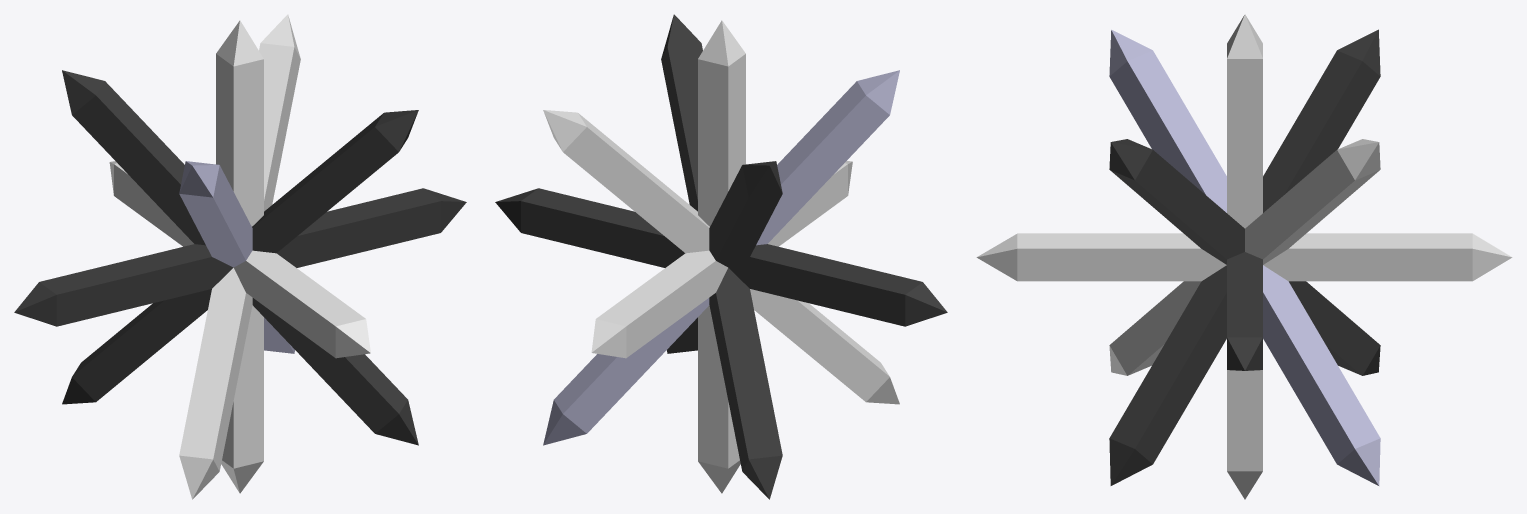
The model's file is tetsubishi.fbx.
3 views of the same model, side by side, from view 1: azimuth 30°, elevation 25°; view 2: azimuth 150°, elevation 25°; view 3: azimuth 270°, elevation 25° (orthographic). The views are drawn at different scales.
Visible parts, largest first — view 1: Cube.001, Cube.006, Cube.005, Cube.003, Cube, Cube.002, Cube.004; view 2: Cube.001, Cube.004, Cube.003, Cube.005, Cube, Cube.002, Cube.006; view 3: Cube.002, Cube.006, Cube.004, Cube, Cube.005, Cube.003, Cube.001.
Boxes of the visible parts, <box> form: Cube.001: <box>14,188,466,326</box>; Cube.006: <box>62,70,418,445</box>; Cube.005: <box>62,110,418,404</box>; Cube.003: <box>179,14,300,499</box>; Cube: <box>216,20,263,493</box>; Cube.002: <box>109,161,370,358</box>; Cube.004: <box>179,161,294,353</box>; Cube.001: <box>495,188,947,326</box>; Cube.004: <box>543,70,899,445</box>; Cube.003: <box>543,110,899,404</box>; Cube.005: <box>661,14,782,499</box>; Cube: <box>698,20,745,493</box>; Cube.002: <box>591,161,852,358</box>; Cube.006: <box>667,161,782,353</box>; Cube.002: <box>976,233,1512,281</box>; Cube.006: <box>1109,29,1380,485</box>; Cube.004: <box>1109,29,1380,485</box>; Cube: <box>1227,14,1262,499</box>; Cube.005: <box>1109,139,1380,375</box>; Cube.003: <box>1109,139,1380,375</box>; Cube.001: <box>1227,252,1262,370</box>.
Size of the model in its own units: 148 by 148 by 148.
